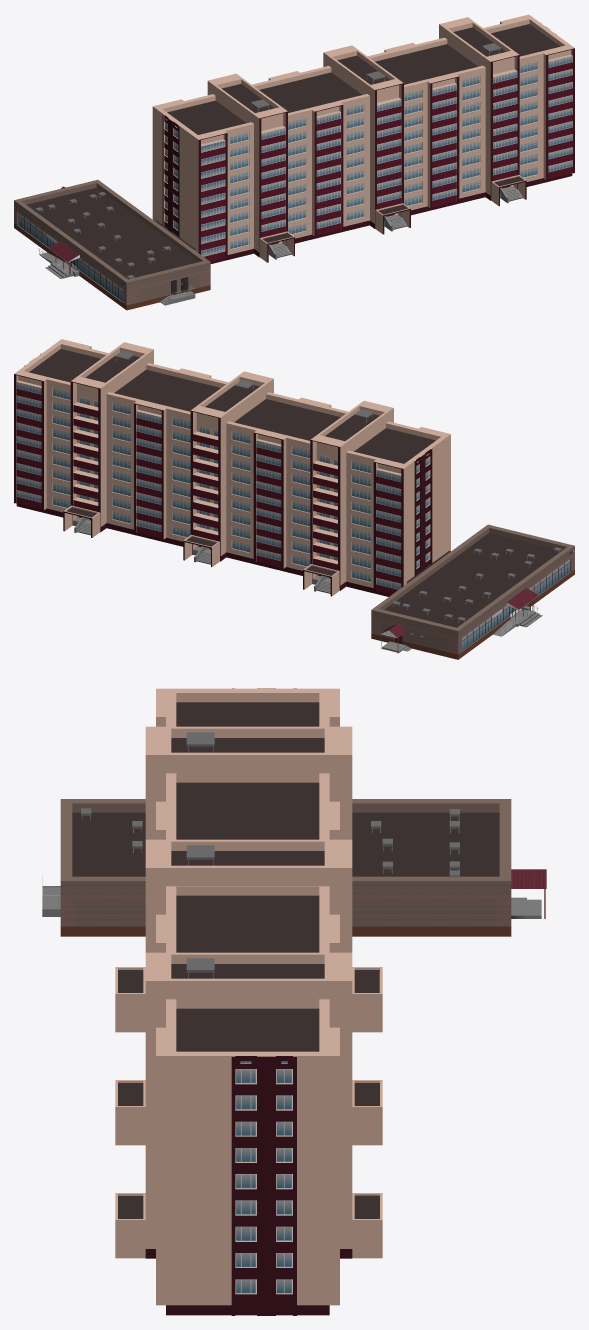
Rendered from apartment_building_and_shop.glb.
3 renders of one model, top to bottom at view 1: azimuth 30°, elevation 25°; view 2: azimuth 150°, elevation 25°; view 3: azimuth 270°, elevation 25°, orthographic. The views are drawn at different scales.
Parts seen in each view (by area): view 1: Object_5, Object_6, Object_10, Object_12, Object_8; view 2: Object_5, Object_6, Object_10, Object_12, Object_8, Object_11; view 3: Object_5, Object_10, Object_6, Object_8, Object_12.
Part boxes in pixels (left/top/right/bottom): Object_5: left=152, top=14, right=574, bottom=263; Object_6: left=163, top=44, right=523, bottom=245; Object_10: left=14, top=180, right=210, bottom=310; Object_12: left=39, top=186, right=523, bottom=305; Object_8: left=35, top=43, right=500, bottom=278; Object_5: left=14, top=339, right=450, bottom=596; Object_6: left=114, top=369, right=450, bottom=578; Object_10: left=371, top=524, right=574, bottom=659; Object_12: left=73, top=517, right=542, bottom=652; Object_8: left=115, top=350, right=561, bottom=621; Object_11: left=380, top=588, right=538, bottom=638; Object_5: left=115, top=688, right=382, bottom=1315; Object_10: left=60, top=799, right=511, bottom=936; Object_6: left=118, top=688, right=352, bottom=1218; Object_8: left=81, top=732, right=459, bottom=972; Object_12: left=42, top=886, right=541, bottom=918.
Bounding box in the file's own units: 111 × 30.29 × 49.36.
8 materials, 5 textured.
